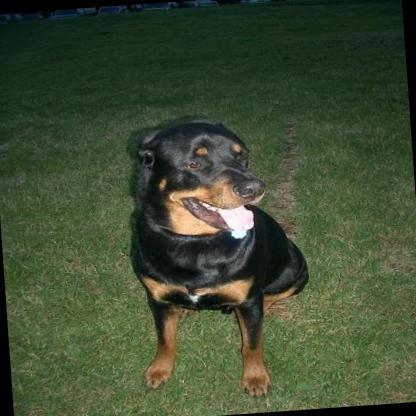Rottweiler: (121, 106, 320, 406)
